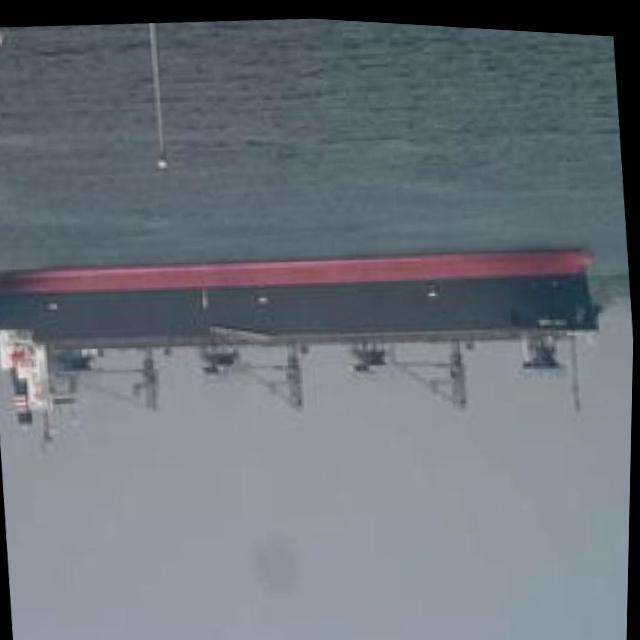ship2: (0, 240, 603, 454)
